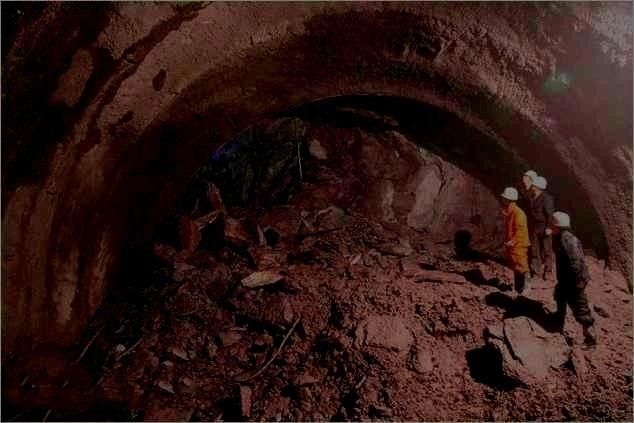helmet: (549, 211, 571, 235), (500, 187, 518, 205), (530, 176, 547, 193), (522, 170, 537, 185)
